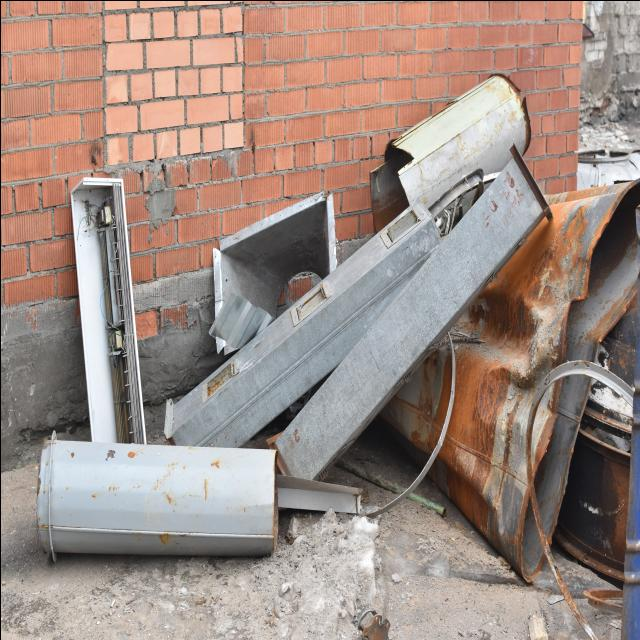entulho: (390, 173, 640, 588), (420, 77, 640, 403), (209, 186, 411, 454), (521, 357, 640, 640), (38, 432, 278, 560), (372, 72, 538, 234), (68, 177, 158, 468), (268, 472, 368, 518)
